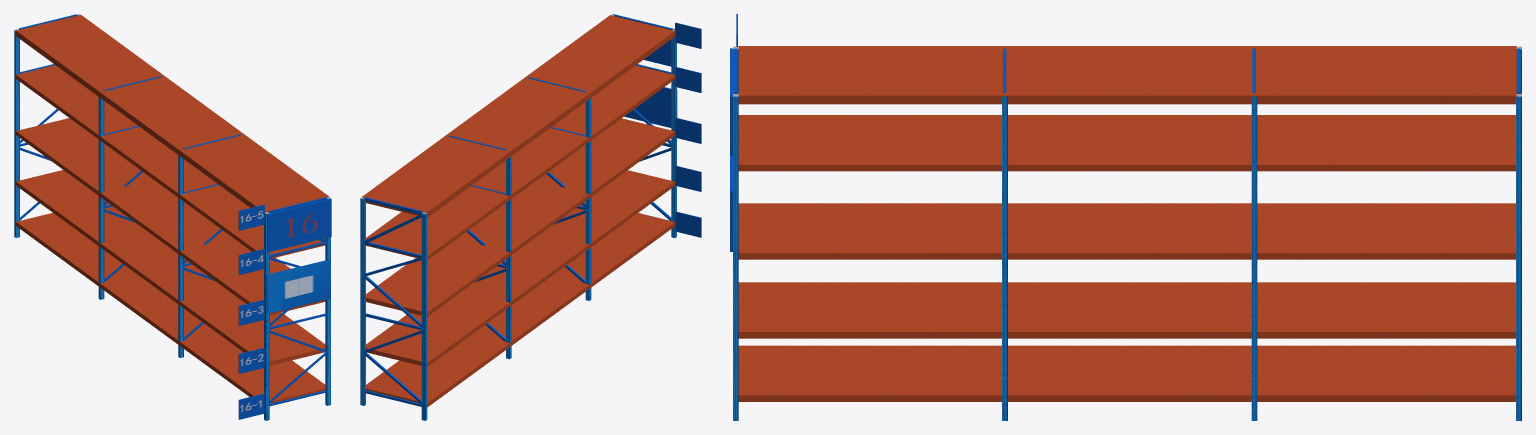
File: Shelf16.FBX
3 renders of one model, left to right at view 1: azimuth 30°, elevation 25°; view 2: azimuth 150°, elevation 25°; view 3: azimuth 270°, elevation 25°, orthographic. The views are drawn at different scales.
Visible parts, largest first — view 1: 图形187, 16-5-01, 16-5-03, 16-5-02, 16-3-03, 16-2-01, 16-3-02, 16-2-03, 16-1-01, 16-2-02, 16-4-03, 16-4-02 (+11 smaller); view 2: 图形187, 16-5-03, 16-5-01, 16-5-02, 16-3-03, 16-2-03, 16-3-01, 16-4-03, 16-3-02, 16-1-03, 16-2-01, 16-2-02 (+11 smaller); view 3: 16-5-01, 16-5-03, 16-3-01, 16-2-01, 16-1-01, 16-4-01, 16-4-03, 16-3-03, 16-2-03, 16-1-03, 16-5-02, 16-2-02 (+4 smaller).
Part boxes in pixels (x1,y1,x2,y2): 图形187: (14,14,330,420); 16-5-01: (179,134,328,212); 16-5-03: (16,15,163,96); 16-5-02: (98,75,243,155); 16-3-03: (16,118,151,195); 16-2-01: (179,289,325,365); 16-3-02: (98,178,232,254); 16-2-03: (16,170,145,245); 16-1-01: (179,332,325,403); 16-2-02: (98,230,226,304); 16-4-03: (16,65,137,138); 16-4-02: (98,125,217,197); 图形187: (360,14,676,420); 16-5-03: (362,136,509,217); 16-5-01: (526,15,674,97); 16-5-02: (445,77,590,156); 16-3-03: (366,239,509,316); 16-2-03: (366,291,509,366); 16-3-01: (537,118,674,196); 16-4-03: (366,186,509,260); 16-3-02: (457,180,590,255); 16-1-03: (366,334,509,407); 16-2-01: (544,170,674,247); 16-2-02: (463,232,590,306); 16-5-01: (738,46,1003,104); 16-5-03: (1257,46,1516,104); 16-3-01: (738,203,1001,259); 16-2-01: (738,282,1001,338); 16-1-01: (738,345,1001,401); 16-4-01: (738,115,1001,171); 16-4-03: (1257,115,1515,171); 16-3-03: (1257,203,1515,259); 16-2-03: (1257,282,1515,338); 16-1-03: (1257,345,1515,401); 16-5-02: (1004,46,1257,104); 16-2-02: (1008,282,1251,338).
Bounding box in the file's own units: 1.13 × 5.45 × 2.56.
